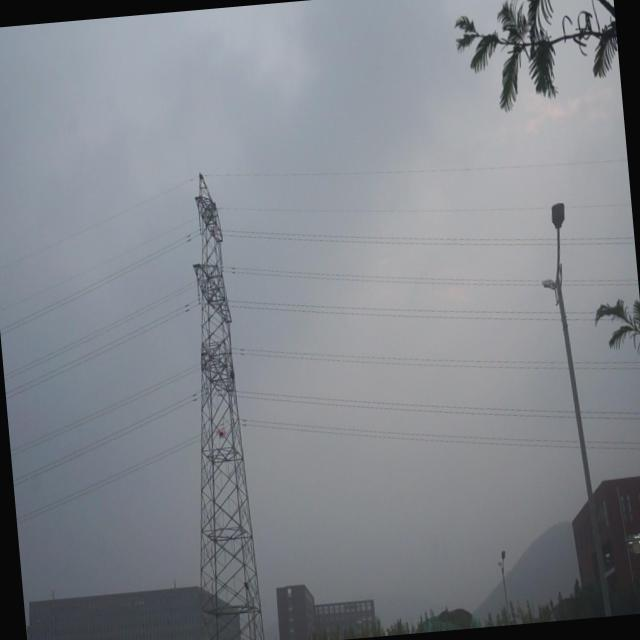drone: (214, 425, 227, 441)
